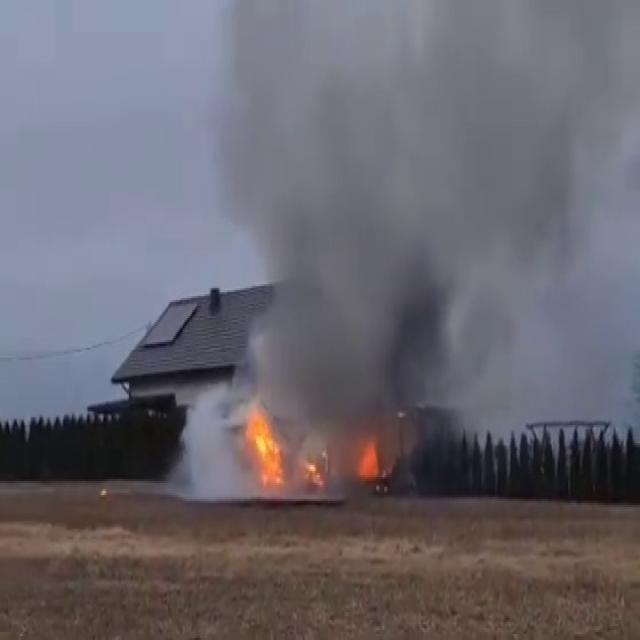fire: (237, 397, 306, 497), (349, 420, 393, 492)
smoke: (194, 1, 638, 450)
